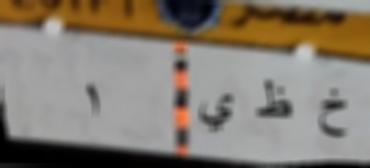1: (82, 74, 106, 122)
Thaa: (255, 74, 296, 124)
khaa: (312, 83, 352, 144)
yaa: (196, 88, 236, 138)
